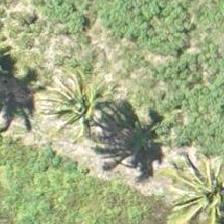Kelapa_Sawit: (33, 67, 123, 157), (171, 143, 223, 223)
